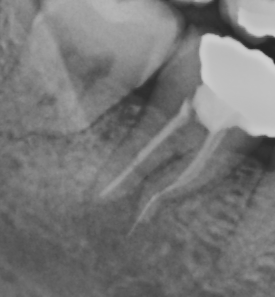fracture: (122, 190, 156, 240)
